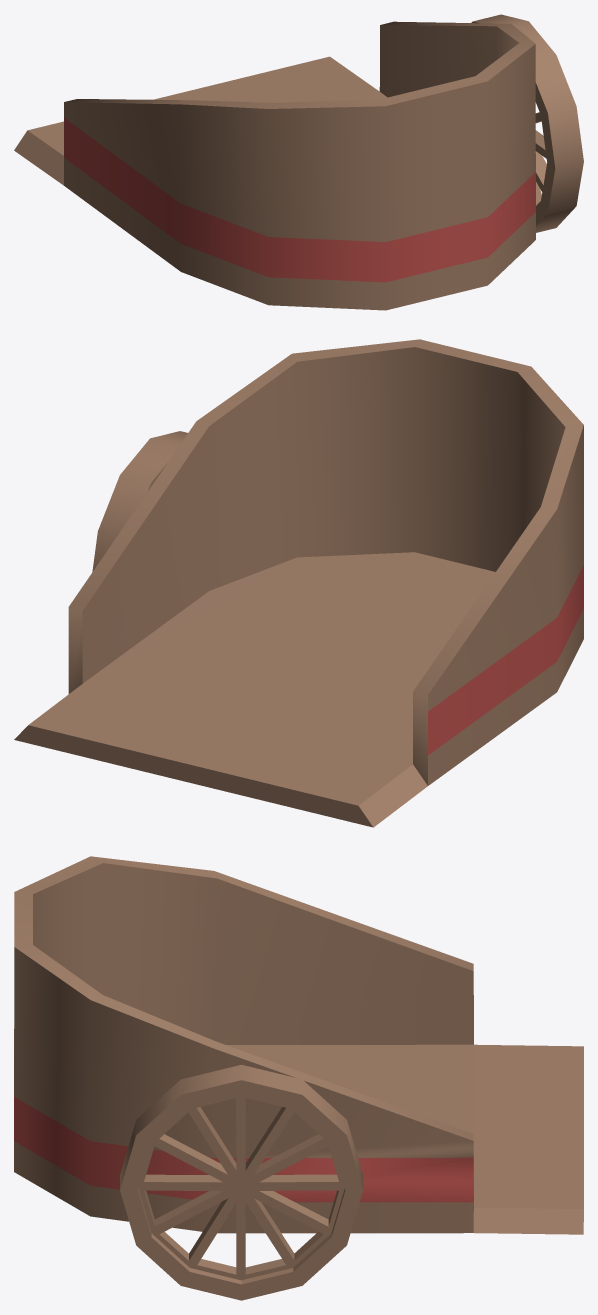
Rendered from Dest_Arena_Cart_Body.FBX.
The picture shows the model from 3 angles, top to bottom: view 1: azimuth 30°, elevation 25°; view 2: azimuth 150°, elevation 25°; view 3: azimuth 270°, elevation 25°; orthographic projection. The views are drawn at different scales.
Parts seen in each view (by area): view 1: Cylinder001; view 2: Cylinder001; view 3: Cylinder001.
Part boxes in pixels (box(x1,y1,x2,y2)): Cylinder001: box(14, 14, 583, 310); Cylinder001: box(14, 339, 583, 827); Cylinder001: box(14, 856, 583, 1300).
Bounding box in the file's own units: 18.86 × 12.53 × 23.42.
